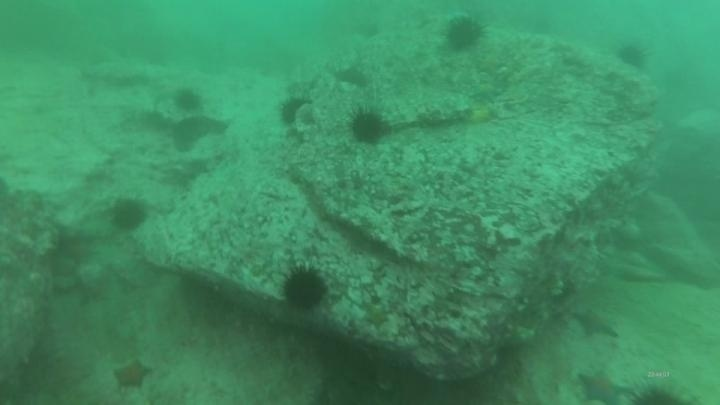echinus: (280, 264, 329, 313), (625, 380, 699, 405), (442, 14, 487, 53), (347, 107, 389, 146), (109, 197, 149, 233), (276, 93, 313, 128), (615, 41, 649, 71), (171, 86, 205, 115), (335, 64, 371, 90)
holothurian: (173, 113, 229, 152)
starfish: (575, 367, 630, 405), (570, 305, 622, 341), (54, 231, 98, 267), (111, 357, 153, 392), (360, 300, 392, 330), (468, 79, 506, 103), (474, 51, 506, 76)
